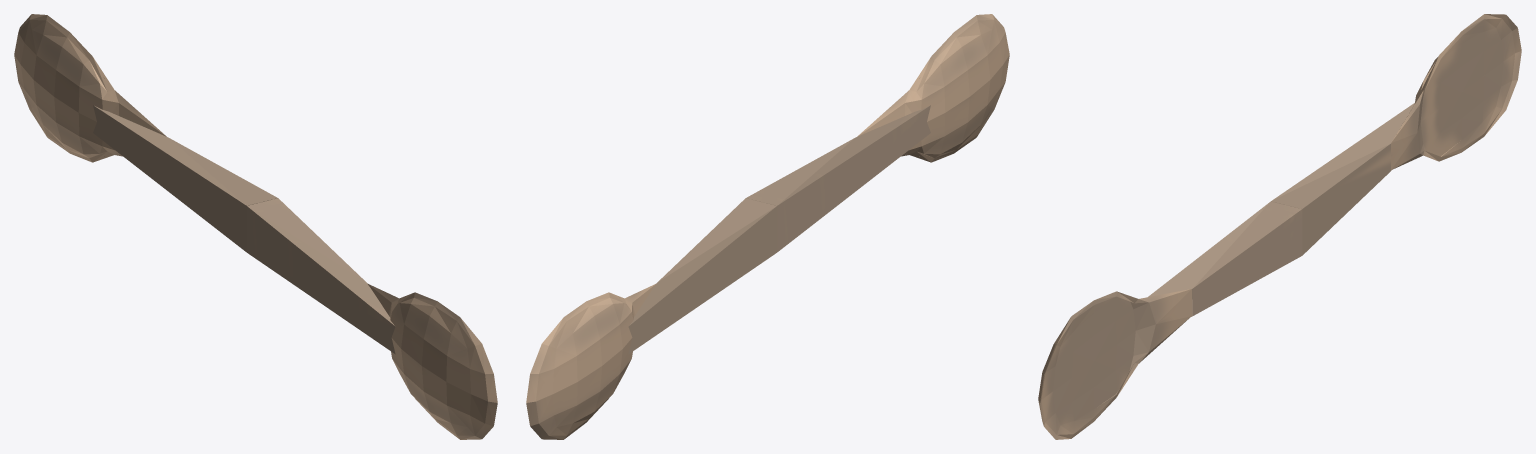
Rendered from riceScoop.obj.
3 renders of one model, left to right at view 1: azimuth 30°, elevation 25°; view 2: azimuth 150°, elevation 25°; view 3: azimuth 330°, elevation 25°, orthographic.
Visible parts, largest first — view 1: 立方体.004; view 2: 立方体.004; view 3: 立方体.004.
Boxes of the visible parts, bbox=[...] form: 立方体.004: bbox=[14, 14, 497, 439]; 立方体.004: bbox=[526, 14, 1009, 439]; 立方体.004: bbox=[1038, 14, 1521, 439].
Size of the model in its own units: 0.5584 by 1.62 by 11.55.
Materials: 1 (1 with a texture image).
